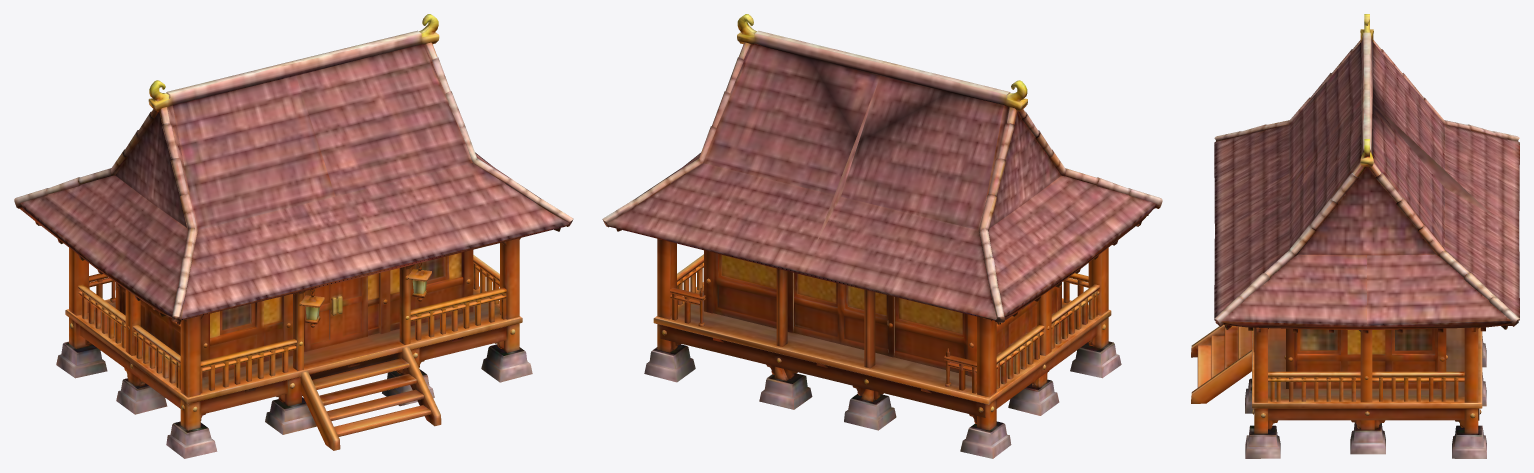
File: rumah.glb
The picture shows the model from 3 angles, left to right: view 1: azimuth 30°, elevation 25°; view 2: azimuth 150°, elevation 25°; view 3: azimuth 270°, elevation 25°; orthographic projection. The views are drawn at different scales.
Parts seen in each view (by area): view 1: tripo_node_3deb467c-2526-4da8-a4d4-716fd444aa76; view 2: tripo_node_3deb467c-2526-4da8-a4d4-716fd444aa76; view 3: tripo_node_3deb467c-2526-4da8-a4d4-716fd444aa76.
Part boxes in pixels (<box>): tripo_node_3deb467c-2526-4da8-a4d4-716fd444aa76: <box>14,14,573,458</box>; tripo_node_3deb467c-2526-4da8-a4d4-716fd444aa76: <box>602,14,1162,458</box>; tripo_node_3deb467c-2526-4da8-a4d4-716fd444aa76: <box>1191,14,1519,458</box>.
Bounding box in the file's own units: 0.9995 × 0.7651 × 0.7534.
1 material, 1 textured.
